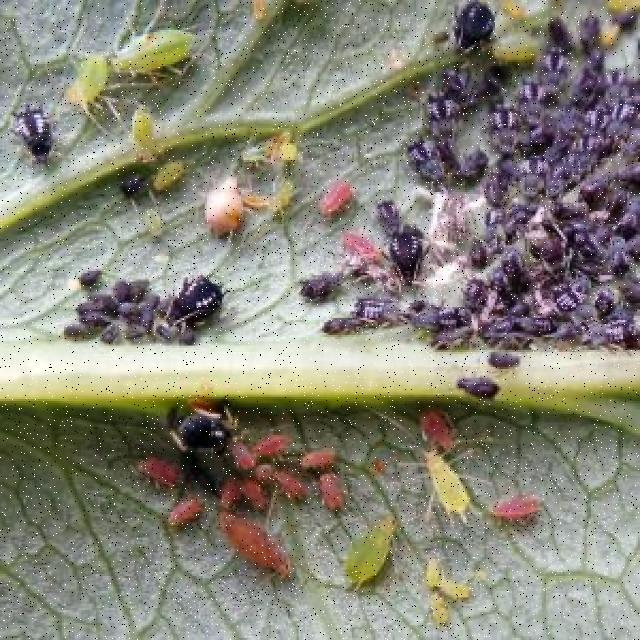Aphids: (334, 493, 419, 608), (412, 450, 483, 529)
